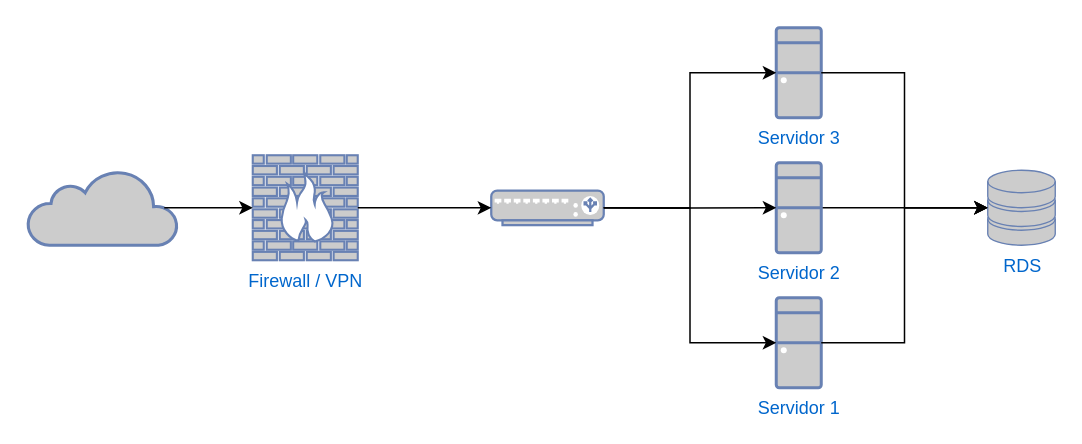
This 1082x444 diagram has some shape labels left out. Each missing label, with the box of its shape:
Internet: (26, 168, 178, 246)
Load Balancer / Proxy Reverso: (489, 188, 604, 226)
